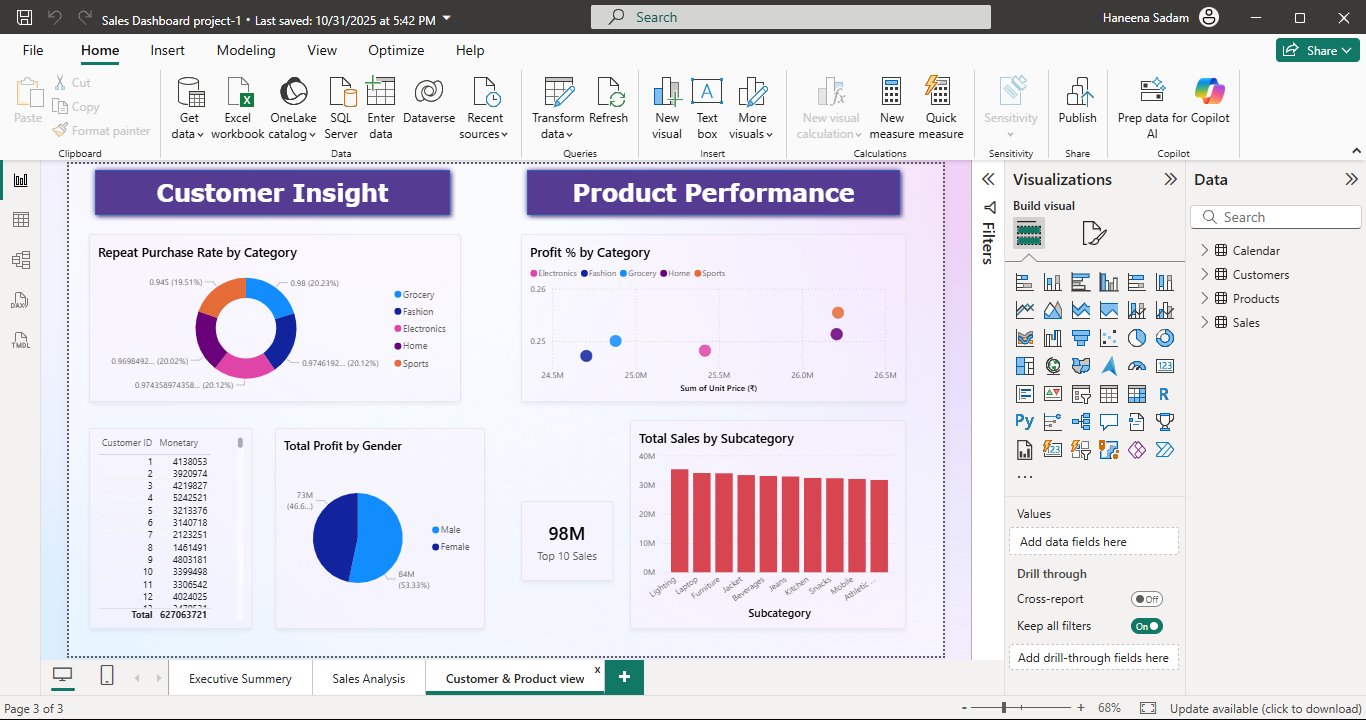

Layout of this report page (visuals, bound fields, positions):
{"tool":"powerbi","page":{"name":"Customer & Product view","canvas":[1280,720],"ordinal":2},"visuals":[{"type":"shape","box":[29.3,0,537.1,83.4],"z":0},{"type":"shape","box":[661.5,0,563.4,83.4],"z":1000},{"type":"donutChart","fields":{"Category":["Products.Category"],"Y":["Sales.Repeat Purchase Rate"]},"box":[29.3,102.4,544.4,245.9],"z":2000},{"type":"tableEx","fields":{"Values":["Customers.Customer ID","Sales.Monetary"]},"box":[29.3,386.3,238.5,294.1],"z":3000},{"type":"pieChart","fields":{"Category":["Customers.Gender"],"Y":["Sales.Total Profit"]},"box":[301.5,386.6,307.5,294],"z":4000},{"type":"scatterChart","title":"Profit % by Category","fields":{"X":["Sum(Sales.Unit Price (₹))"],"Y":["Sales.Profit %"],"Size":["Sales.Total Sales"],"Series":["Products.Category"]},"box":[661,102,563,246],"z":5000},{"type":"card","fields":{"Values":["Sales.Top 10 Sales"]},"box":[661.5,493.2,134.6,117.1],"z":6000},{"type":"columnChart","fields":{"Category":["Products.Subcategory"],"Y":["Sales.Total Sales"]},"box":[821,374.6,403.9,305.9],"z":7000}]}

Visuals, with their boxes on the page's 1280x720 design canvas (x1, y1, x2, y2). These are canvas units, not pixel positions in the 1366x720 screenshot, which may show the page scaled, cropped or inside an application window:
shape: BBox(29, 0, 566, 83)
shape: BBox(662, 0, 1225, 83)
donutChart - Products.Category x Sales.Repeat Purchase Rate: BBox(29, 102, 574, 348)
tableEx - Customers.Customer ID x Sales.Monetary: BBox(29, 386, 268, 680)
pieChart - Customers.Gender x Sales.Total Profit: BBox(302, 387, 609, 681)
"Profit % by Category" scatterChart: BBox(661, 102, 1224, 348)
card - Sales.Top 10 Sales: BBox(662, 493, 796, 610)
columnChart - Products.Subcategory x Sales.Total Sales: BBox(821, 375, 1225, 680)
